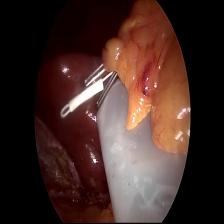Grasper: (86, 56, 114, 109)
Specimen Bag: (100, 107, 178, 224)
